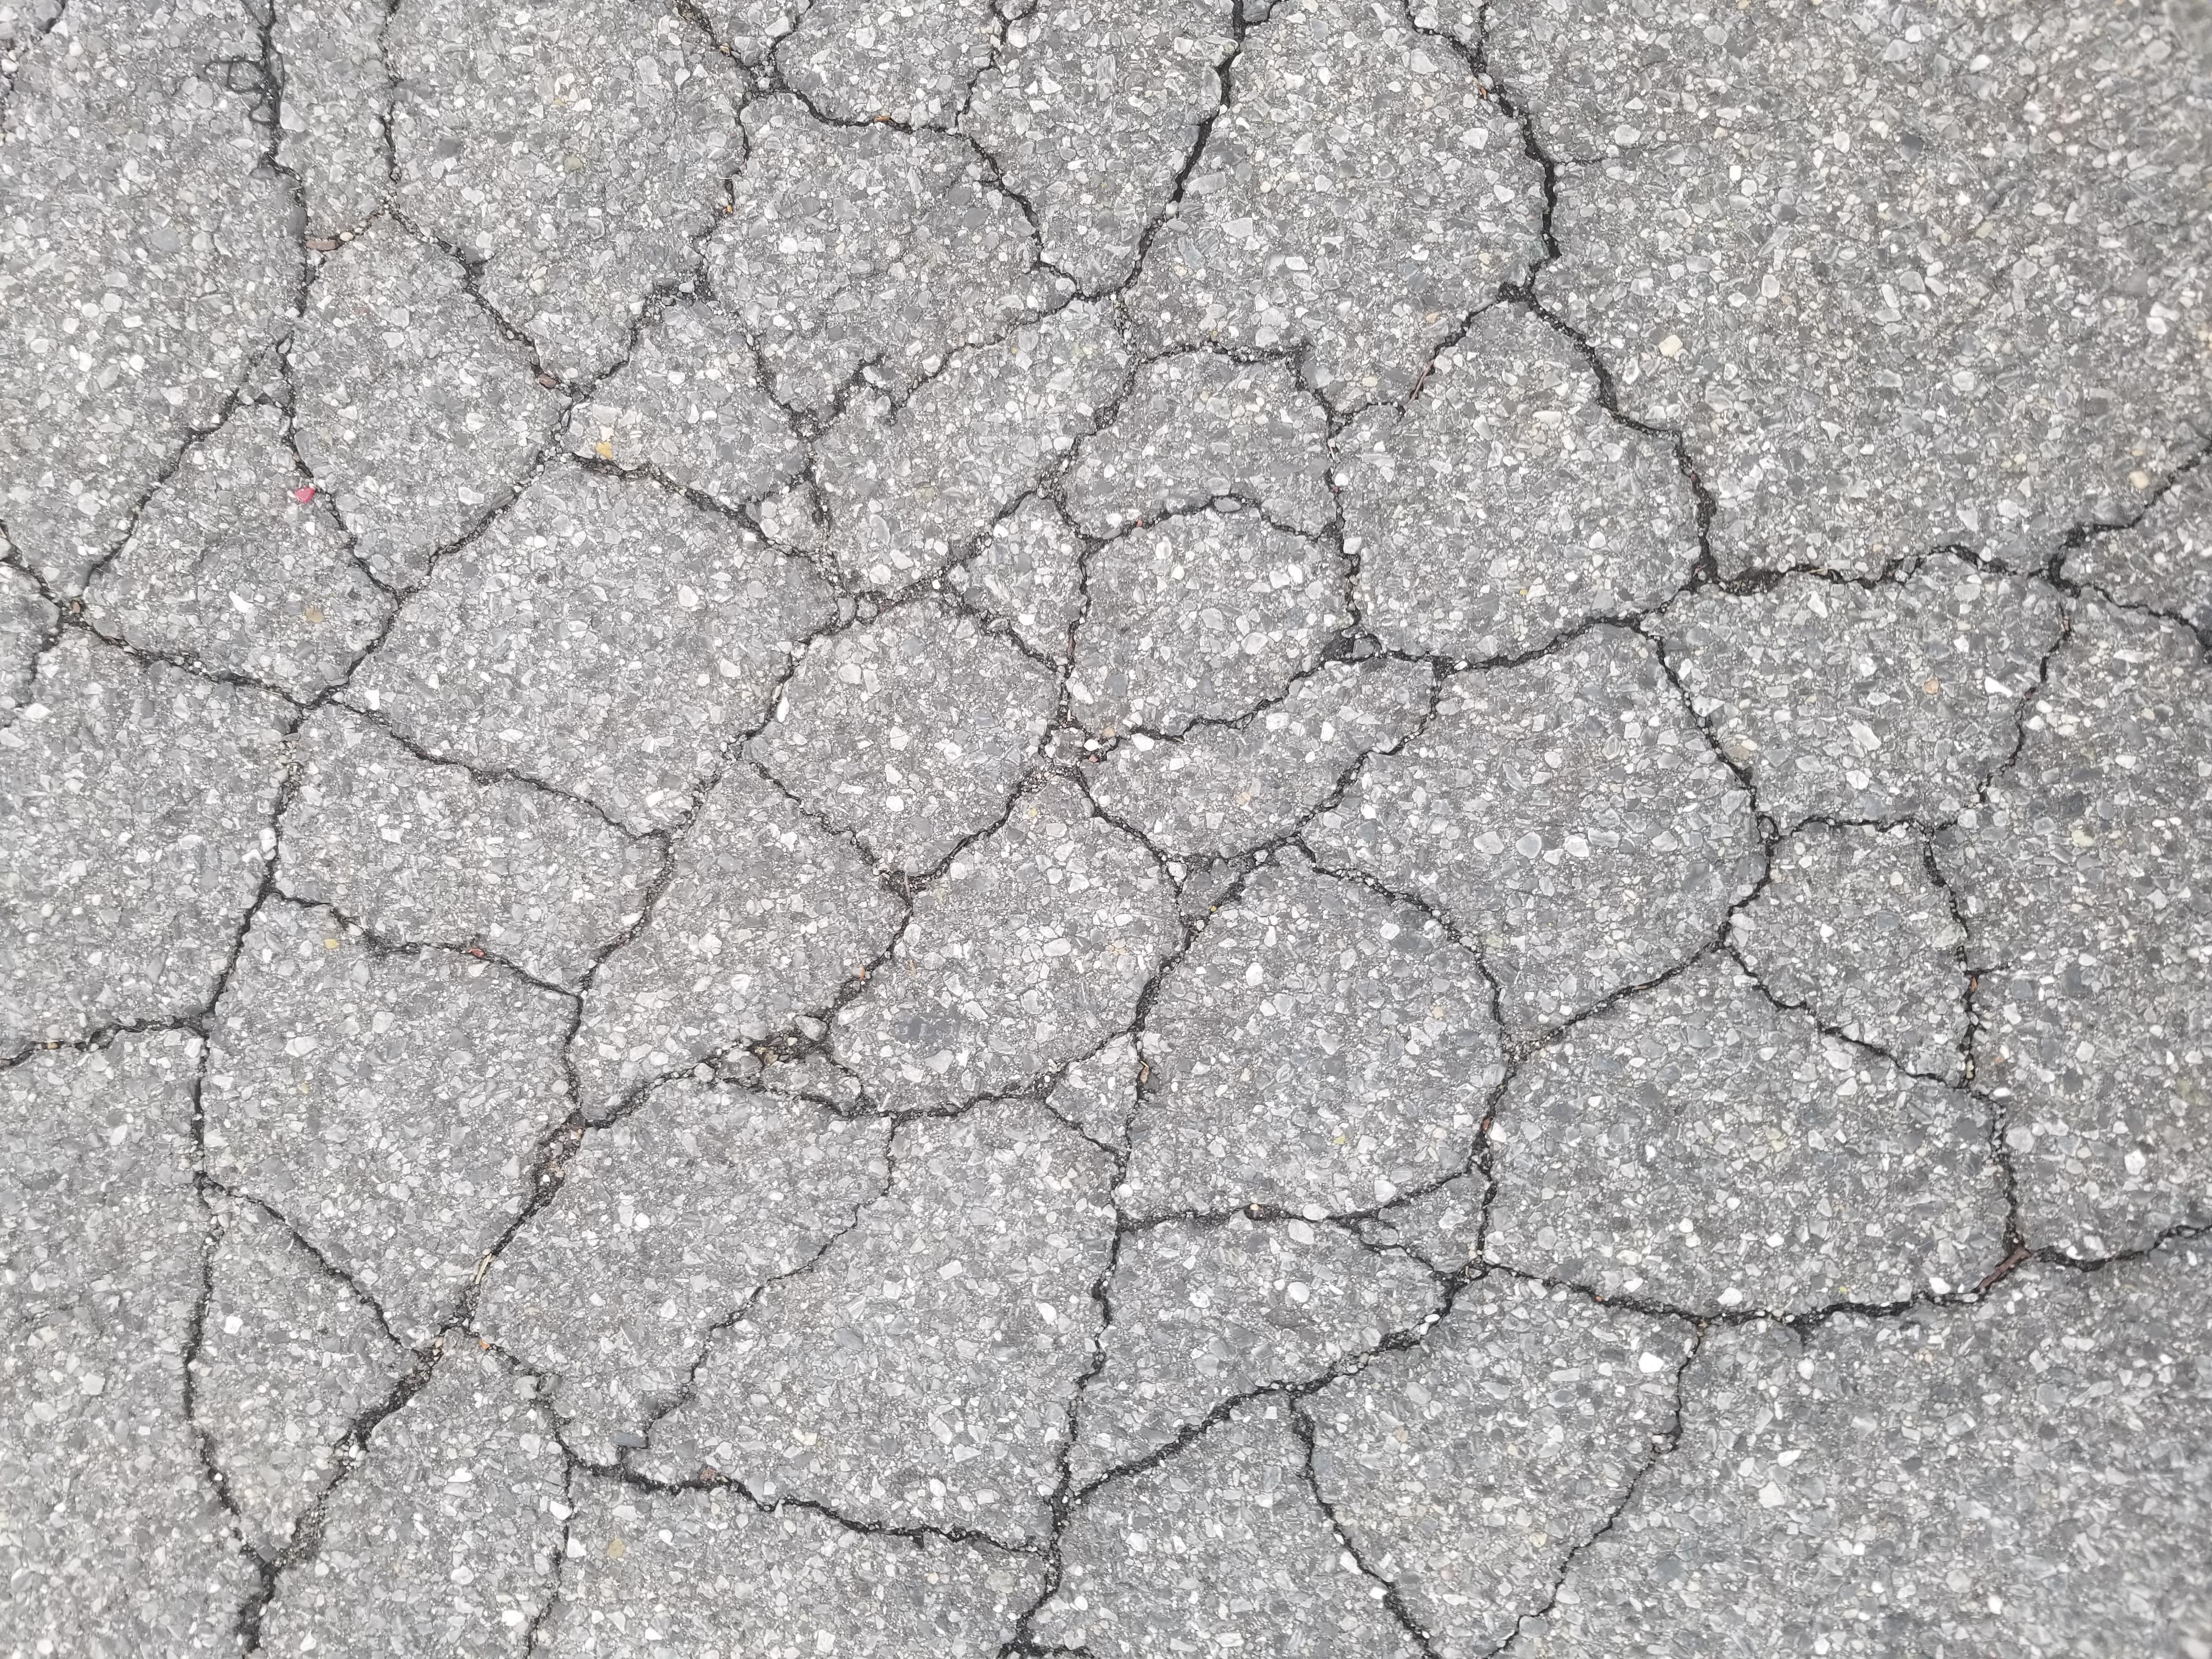alligator-crack: (26, 2, 2212, 1659)
